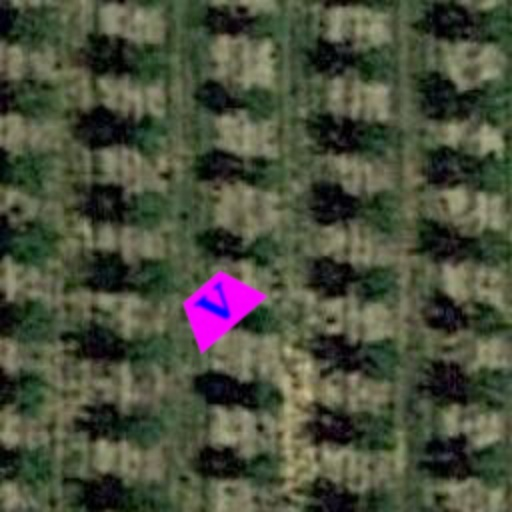trapezoid: (154, 242, 282, 370)
